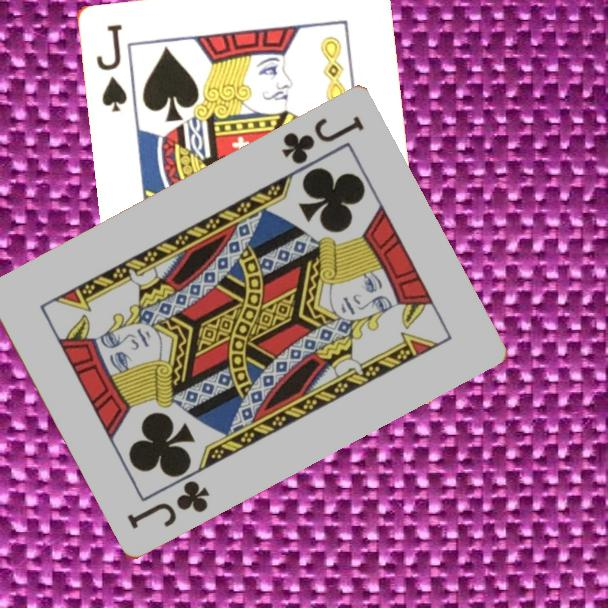c11: (123, 477, 212, 533), (277, 113, 367, 168)
s11: (92, 20, 130, 115)
